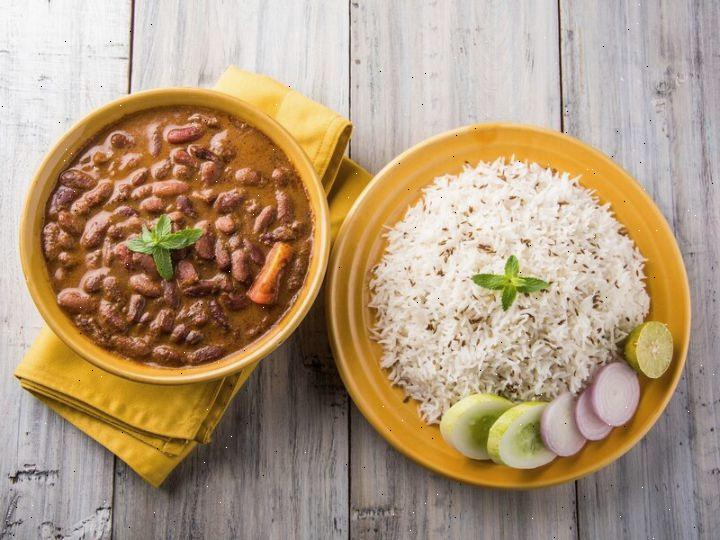rajma: (43, 122, 293, 351)
rice: (376, 153, 607, 375), (388, 173, 592, 382)
salad: (531, 371, 649, 458), (448, 382, 549, 463)
